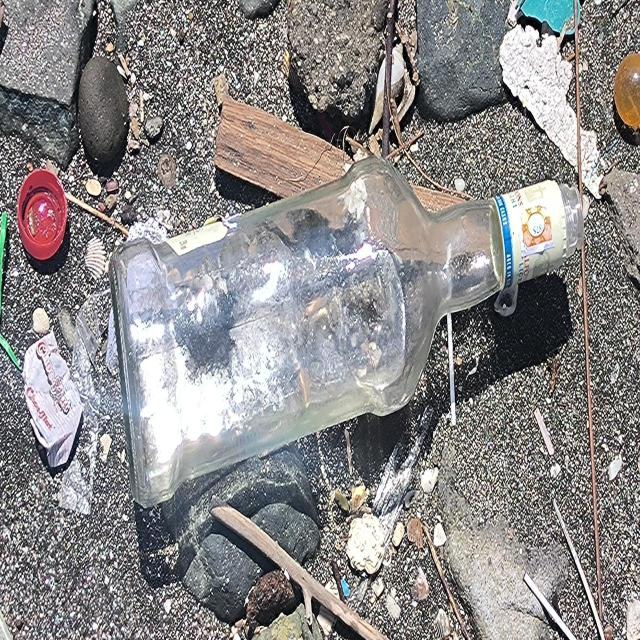glass_waste: (111, 156, 592, 506), (110, 157, 583, 507)
plastic_waste: (19, 170, 71, 264), (614, 50, 640, 134)
